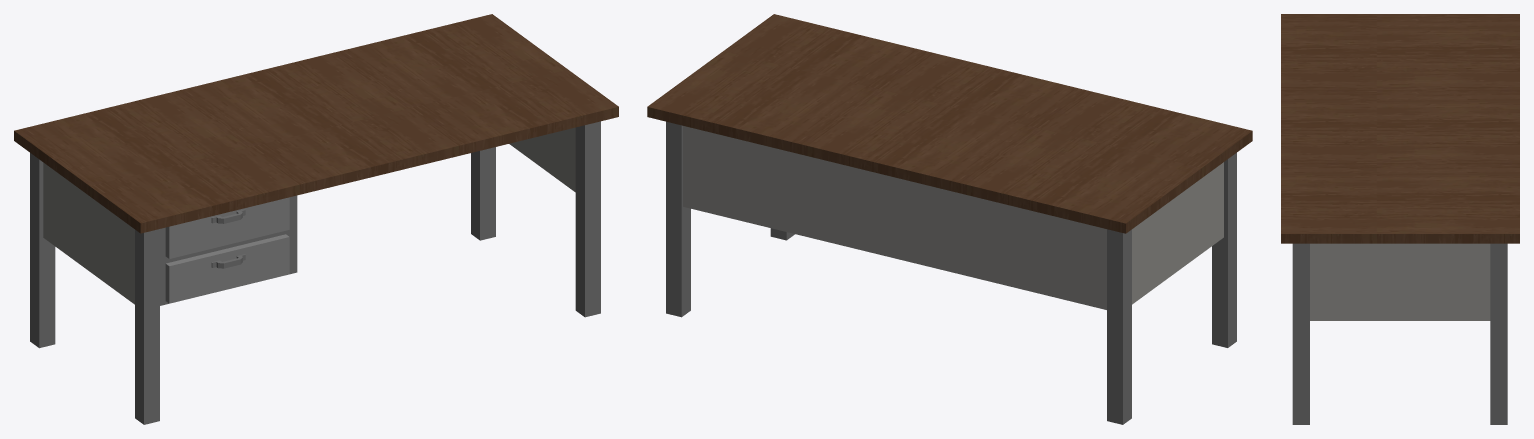
Rendered from office-desk-60s.gltf.
3 renders of one model, left to right at view 1: azimuth 30°, elevation 25°; view 2: azimuth 150°, elevation 25°; view 3: azimuth 270°, elevation 25°, orthographic. The views are drawn at different scales.
Visible parts, largest first — view 1: Cube.016; view 2: Cube.016; view 3: Cube.016.
Part boxes in pixels (x1,y1,x2,y2): Cube.016: (14, 14, 618, 424); Cube.016: (647, 14, 1252, 424); Cube.016: (1281, 14, 1519, 424).
Bounding box in the file's own units: 1.83 × 0.7611 × 0.8389.
Materials: 4 (1 with a texture image).
